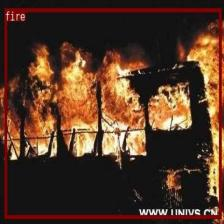fire: (4, 8, 221, 218)
